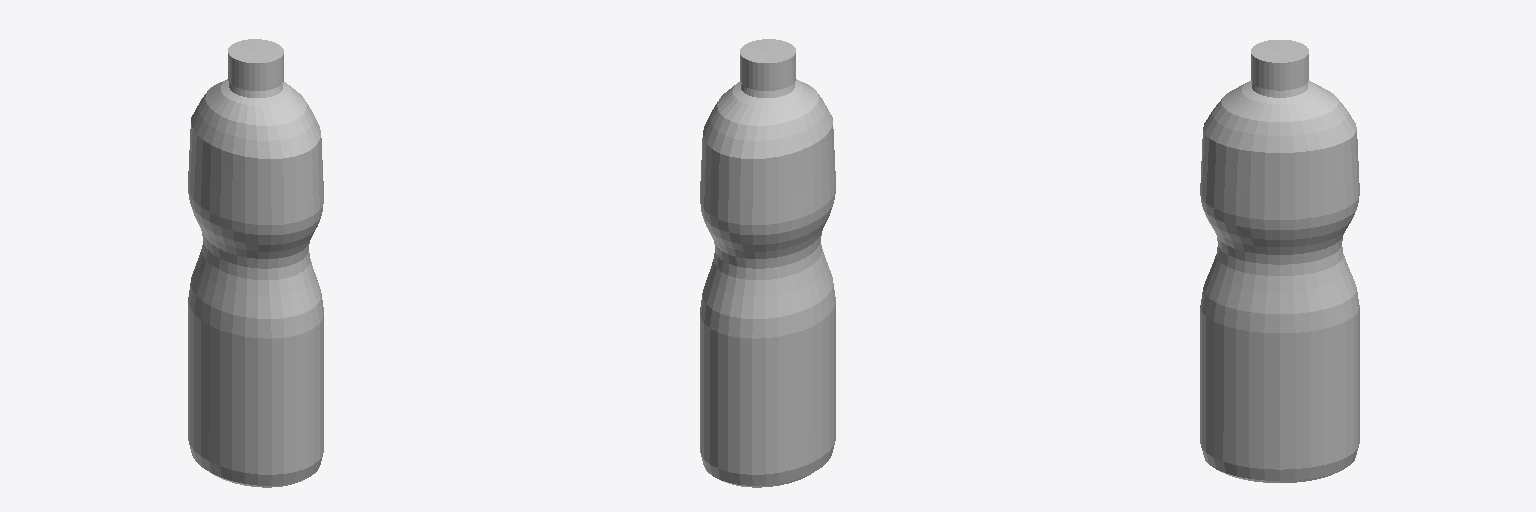
File: bottle_2.obj
3 views of the same model, side by side, from view 1: azimuth 30°, elevation 25°; view 2: azimuth 150°, elevation 25°; view 3: azimuth 270°, elevation 25° (orthographic).
Visible parts, largest first — view 1: bottle2 group1; view 2: bottle2 group1; view 3: bottle2 group1.
Boxes of the visible parts, x1,y1,x2,y2 form: bottle2 group1: [188, 39, 323, 487]; bottle2 group1: [700, 39, 835, 487]; bottle2 group1: [1200, 40, 1359, 482].
Bounding box in the file's own units: 8.67 × 30.66 × 10.84.